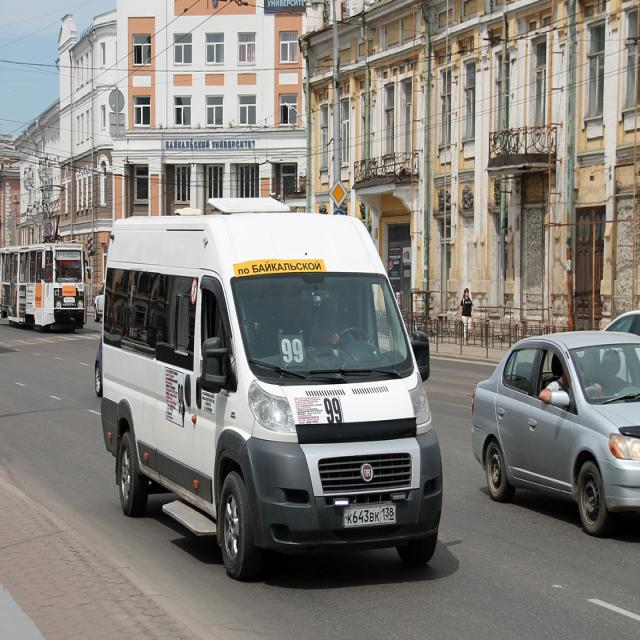number-of-bus: (280, 338, 306, 366), (325, 397, 345, 427), (178, 385, 186, 416)
